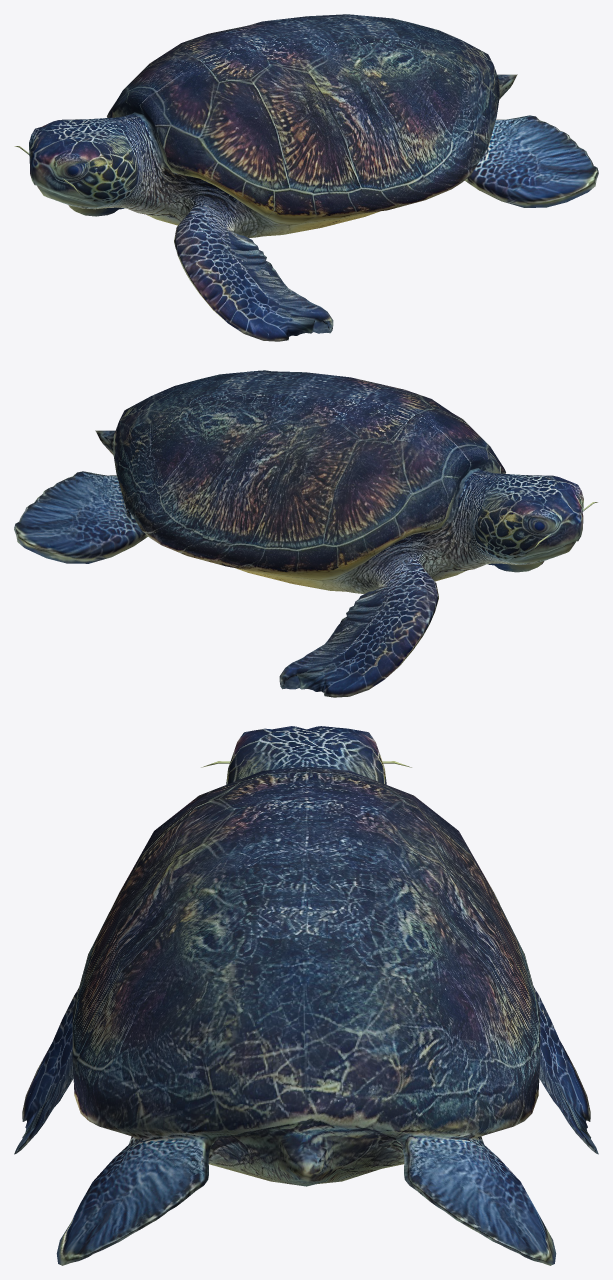
The model's file is turtle.glb.
3 renders of one model, top to bottom at view 1: azimuth 30°, elevation 25°; view 2: azimuth 150°, elevation 25°; view 3: azimuth 270°, elevation 25°, orthographic. The views are drawn at different scales.
Parts seen in each view (by area): view 1: tripo_node_7061c292-d180-41e6-8b0c-6479e9a2ffd0; view 2: tripo_node_7061c292-d180-41e6-8b0c-6479e9a2ffd0; view 3: tripo_node_7061c292-d180-41e6-8b0c-6479e9a2ffd0.
Part boxes in pixels (x1,y1,x2,y2): tripo_node_7061c292-d180-41e6-8b0c-6479e9a2ffd0: [14, 14, 598, 341]; tripo_node_7061c292-d180-41e6-8b0c-6479e9a2ffd0: [14, 370, 597, 697]; tripo_node_7061c292-d180-41e6-8b0c-6479e9a2ffd0: [14, 726, 598, 1265].
Size of the model in its own units: 0.9995 by 0.4292 by 0.6284.
1 material, 1 textured.
